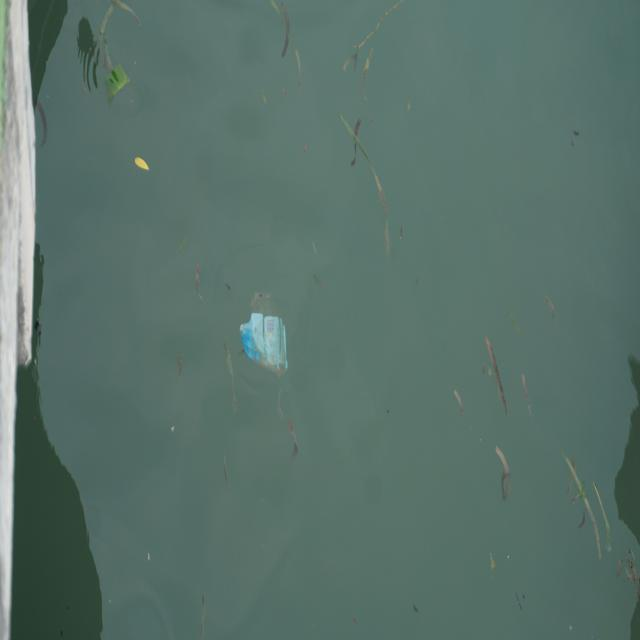Bungkus Makanan: (239, 296, 293, 378)
